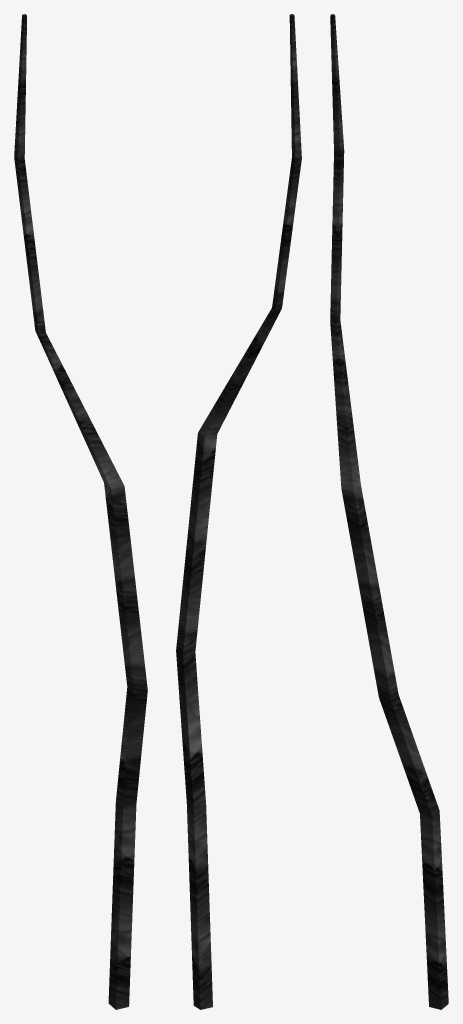
Rendered from SnowCreatureB_6.gltf.
3 renders of one model, left to right at view 1: azimuth 30°, elevation 25°; view 2: azimuth 210°, elevation 25°; view 3: azimuth 330°, elevation 25°, orthographic. The views are drawn at different scales.
Parts seen in each view (by area): view 1: SnowCreatureB_6; view 2: SnowCreatureB_6; view 3: SnowCreatureB_6.
Boxes of the visible parts, x1=… form: SnowCreatureB_6: x1=14, y1=14, x2=147, y2=1009; SnowCreatureB_6: x1=176, y1=14, x2=301, y2=1009; SnowCreatureB_6: x1=330, y1=14, x2=448, y2=1009.
Size of the model in its own units: 1.92 by 16.71 by 1.53.
Materials: 1 (1 with a texture image).
